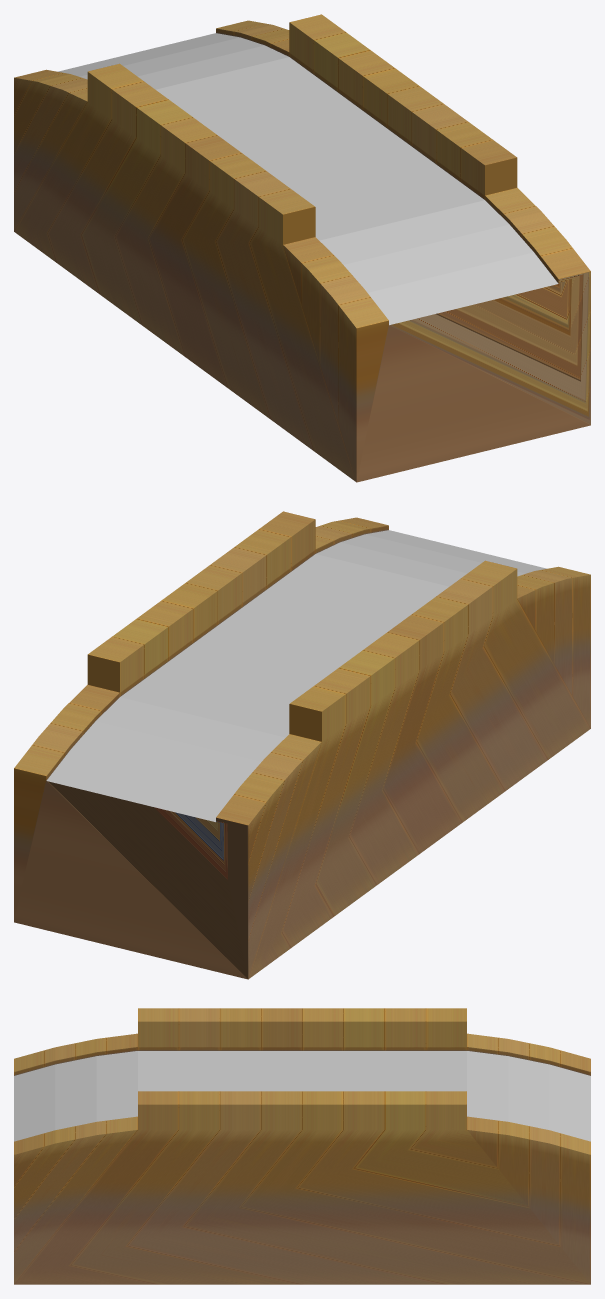
Rendered from Bridge02_b01_col.FBX.
The picture shows the model from 3 angles, top to bottom: view 1: azimuth 30°, elevation 25°; view 2: azimuth 150°, elevation 25°; view 3: azimuth 270°, elevation 25°; orthographic projection. The views are drawn at different scales.
Parts seen in each view (by area): view 1: Bridge02_b01_col; view 2: Bridge02_b01_col; view 3: Bridge02_b01_col.
Part boxes in pixels (box(x1,y1,x2,y2)): Bridge02_b01_col: box(14, 14, 590, 482); Bridge02_b01_col: box(14, 511, 590, 979); Bridge02_b01_col: box(14, 1008, 590, 1284).
Bounding box in the file's own units: 985 × 860 × 2497.
